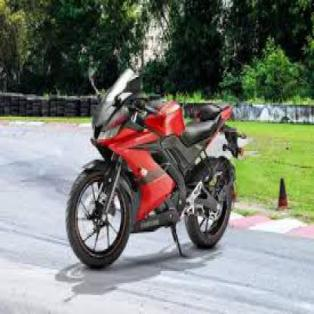Motocicleta: (61, 54, 244, 277)
